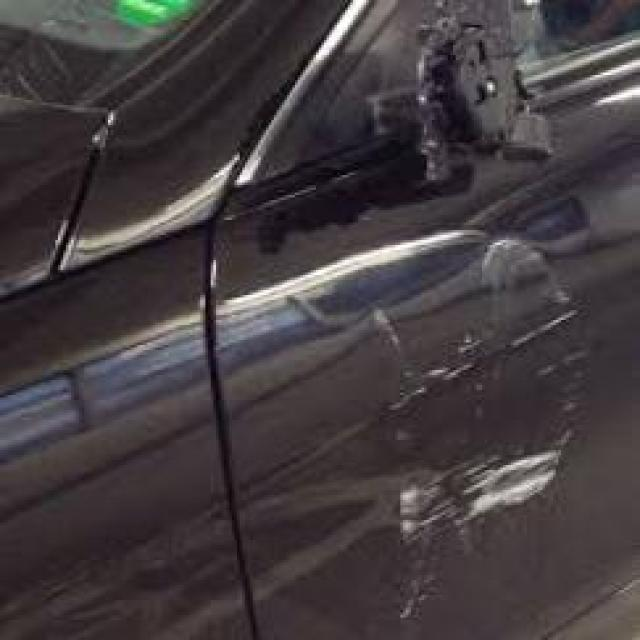Door: (269, 185, 640, 602)
